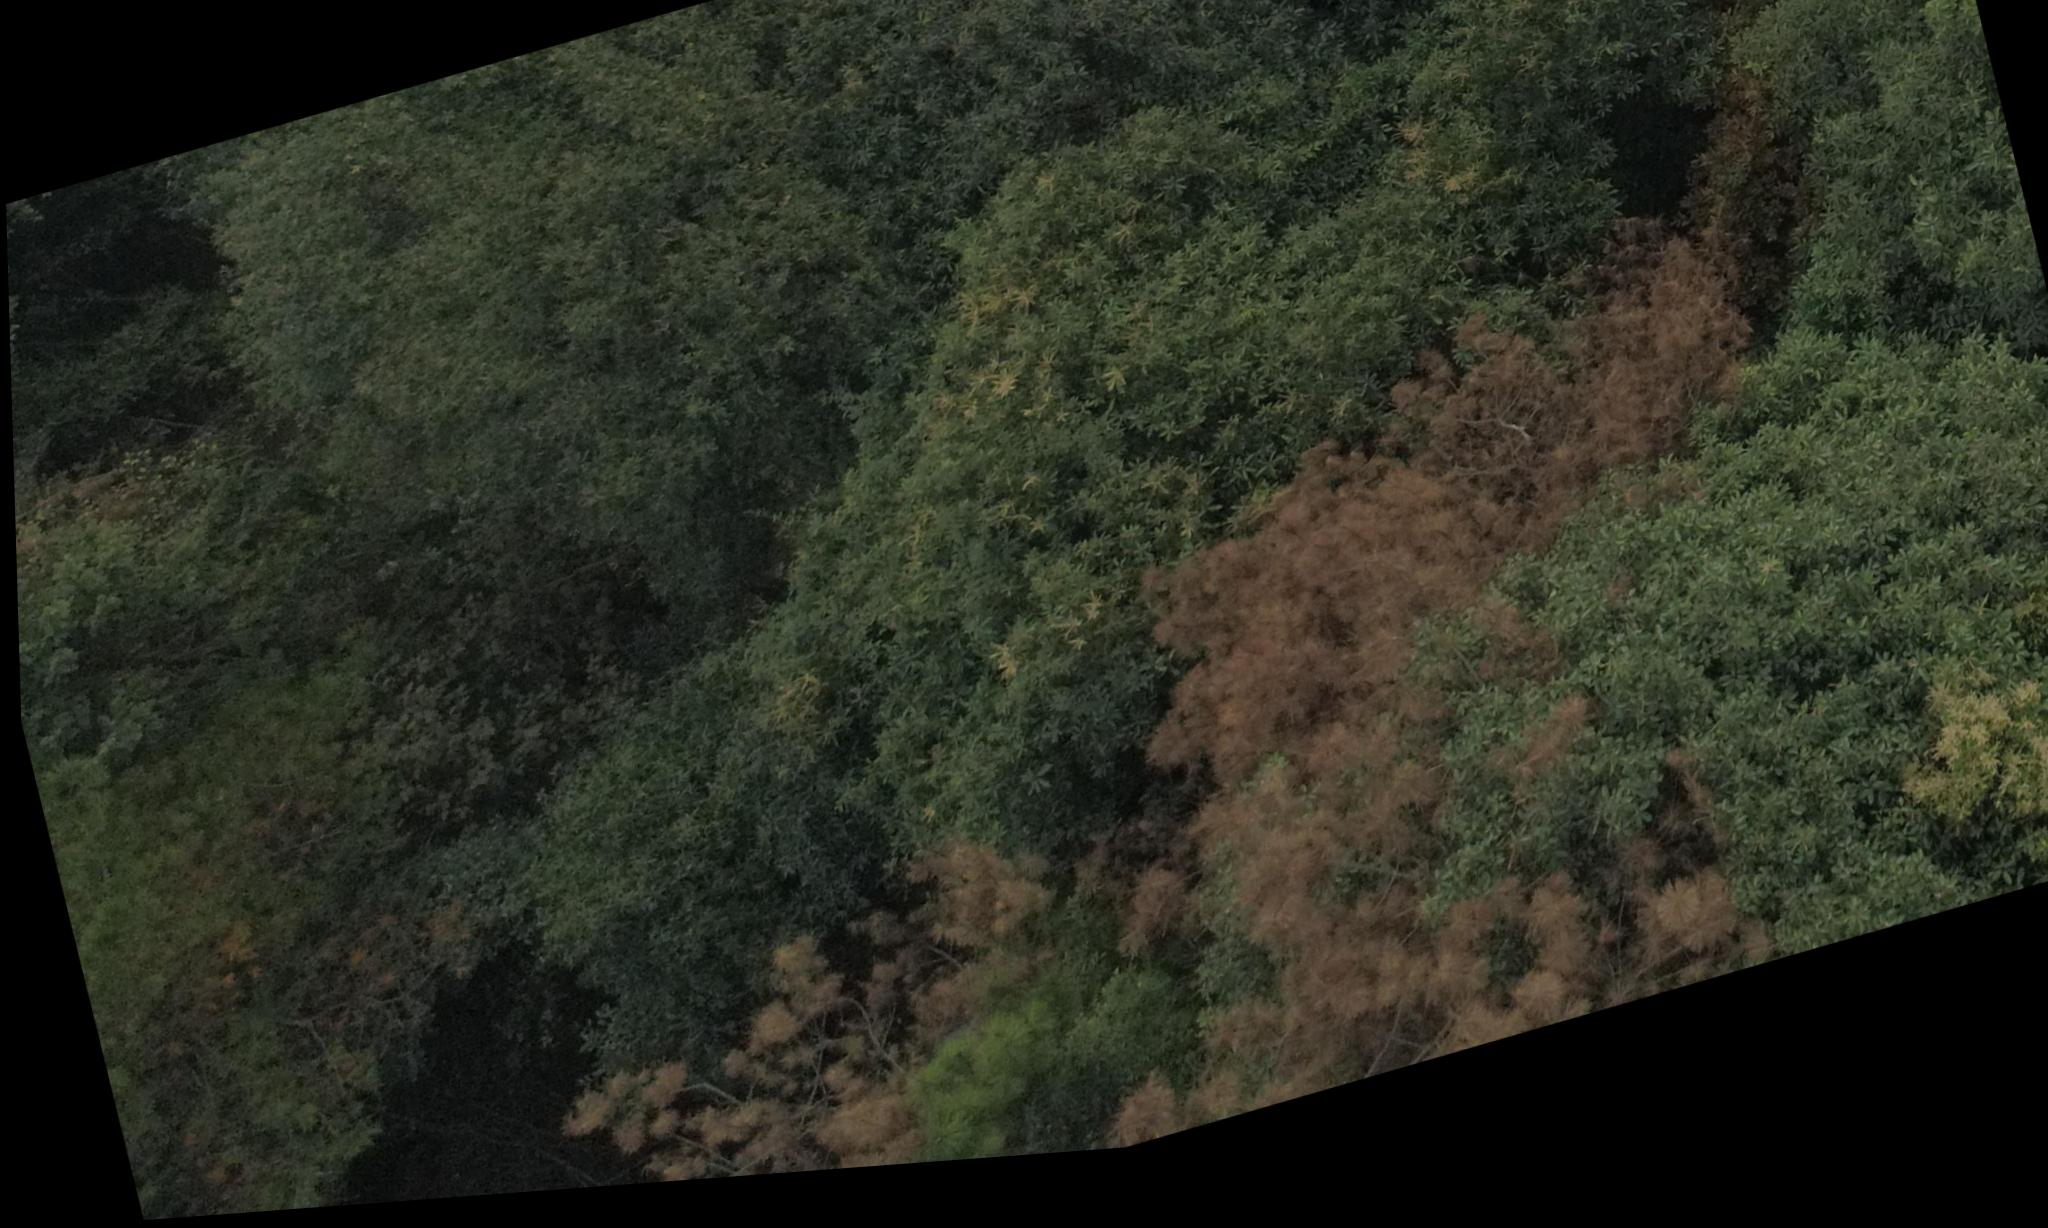heavy: (471, 852, 1098, 1202), (1107, 436, 1532, 839)
